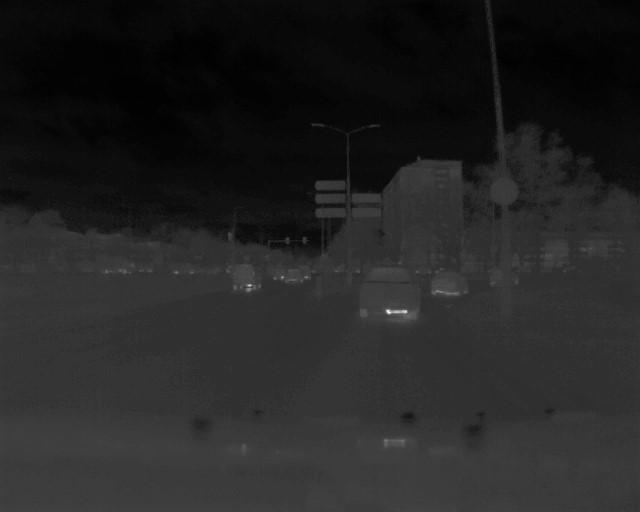car: (359, 267, 425, 322), (228, 262, 262, 297), (431, 271, 471, 299), (279, 268, 304, 285)
